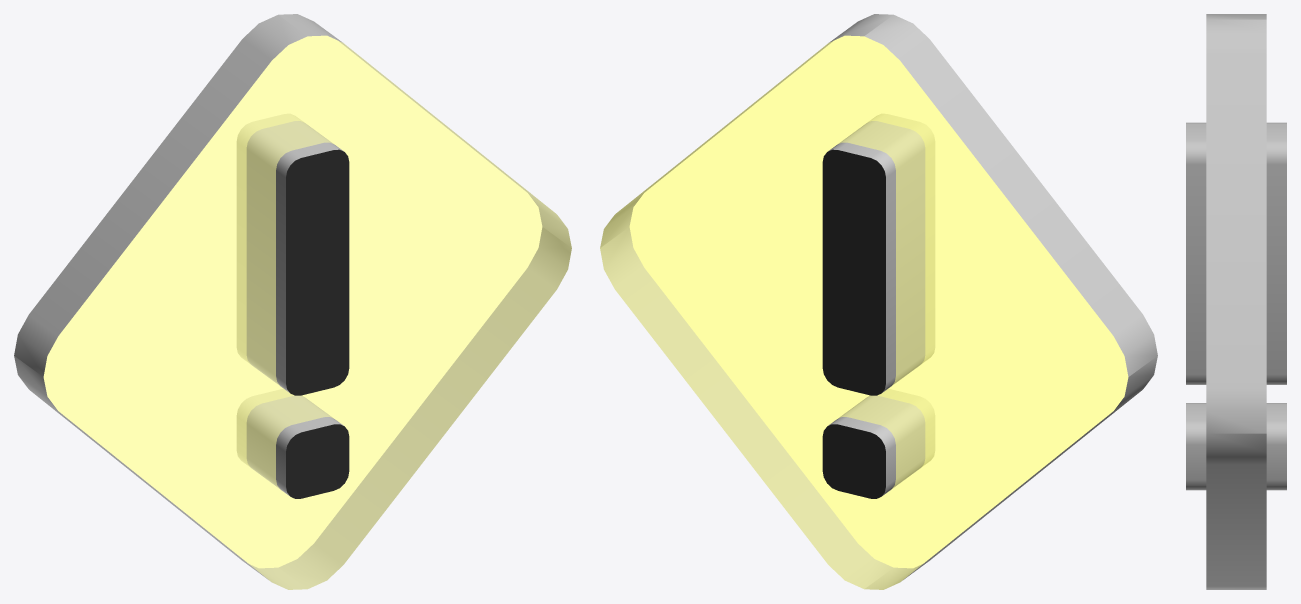
File: marker_error.dae
The picture shows the model from 3 angles, left to right: view 1: azimuth 30°, elevation 25°; view 2: azimuth 150°, elevation 25°; view 3: azimuth 270°, elevation 25°; orthographic projection. The views are drawn at different scales.
Parts seen in each view (by area): view 1: n_1, n_2, n_4, n_3; view 2: n_1, n_2, n_4, n_3; view 3: n_2, n_4.
Boxes of the visible parts, box(x1,y1,x2,y2) form: n_1: box(43, 35, 571, 589); n_2: box(14, 14, 571, 589); n_4: box(237, 114, 343, 495); n_3: box(286, 149, 349, 498); n_1: box(600, 35, 1128, 589); n_2: box(600, 14, 1157, 589); n_4: box(828, 114, 934, 495); n_3: box(822, 149, 885, 498); n_2: box(1206, 14, 1266, 589); n_4: box(1186, 122, 1286, 490).
Bounding box in the file's own units: 123 × 19.9 × 123.
